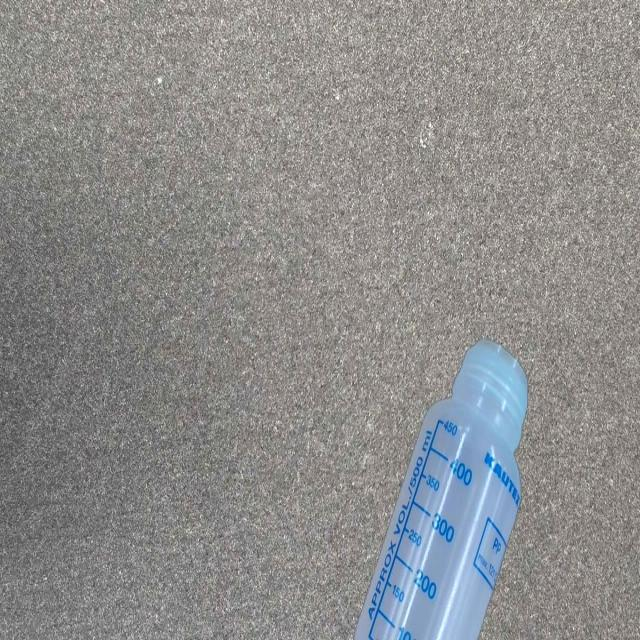bottle: (350, 337, 530, 640)
